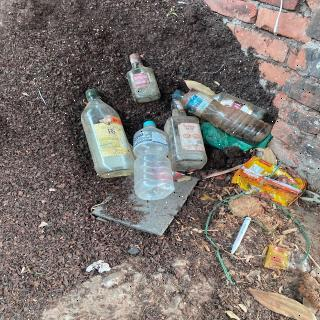Plastic-bottle: (172, 88, 276, 148), (131, 119, 180, 203)
